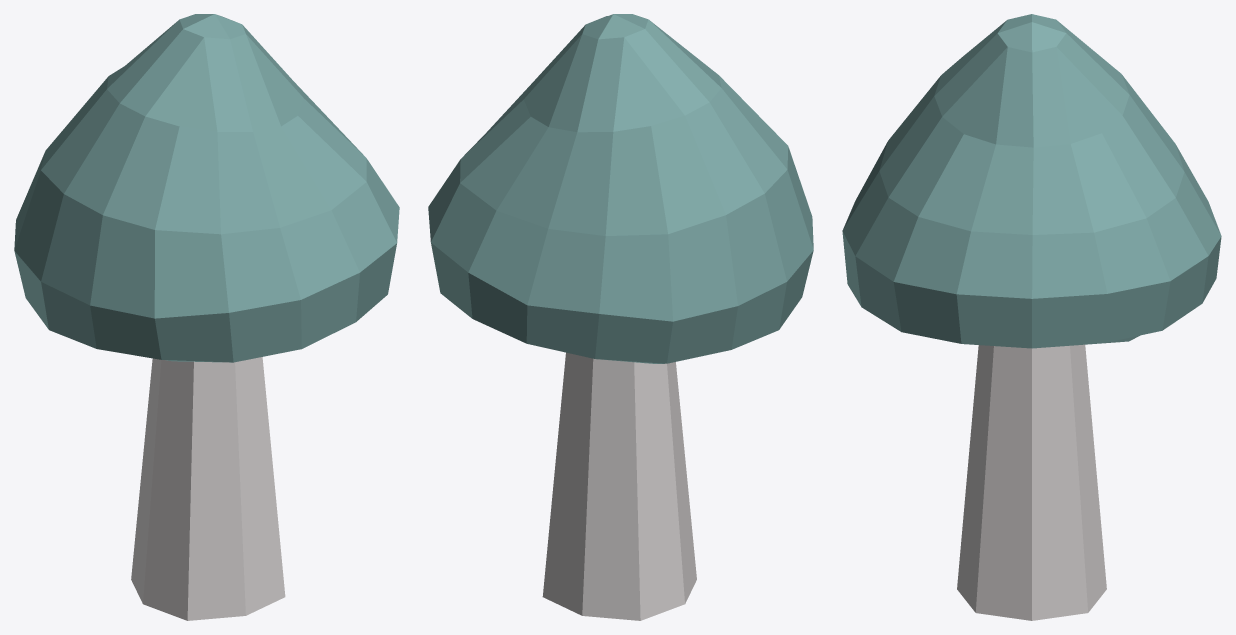
File: pilz_2.fbx
3 renders of one model, left to right at view 1: azimuth 30°, elevation 25°; view 2: azimuth 150°, elevation 25°; view 3: azimuth 270°, elevation 25°, orthographic.
Visible parts, largest first — view 1: pCube13; view 2: pCube13; view 3: pCube13.
Boxes of the visible parts, x1=… form: pCube13: x1=14, y1=14, x2=399, y2=620; pCube13: x1=428, y1=14, x2=813, y2=620; pCube13: x1=842, y1=14, x2=1221, y2=620.
Size of the model in its own units: 193 by 319 by 192.
